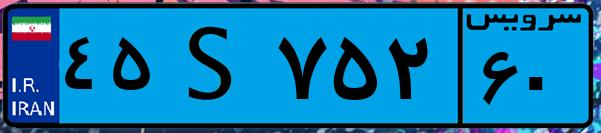0: (525, 38, 570, 115)
2: (385, 28, 445, 110)
4: (57, 26, 110, 100)
5: (330, 28, 385, 110), (110, 28, 158, 98)
6: (475, 38, 525, 113)
7: (270, 28, 330, 110)
S: (158, 12, 270, 120)
